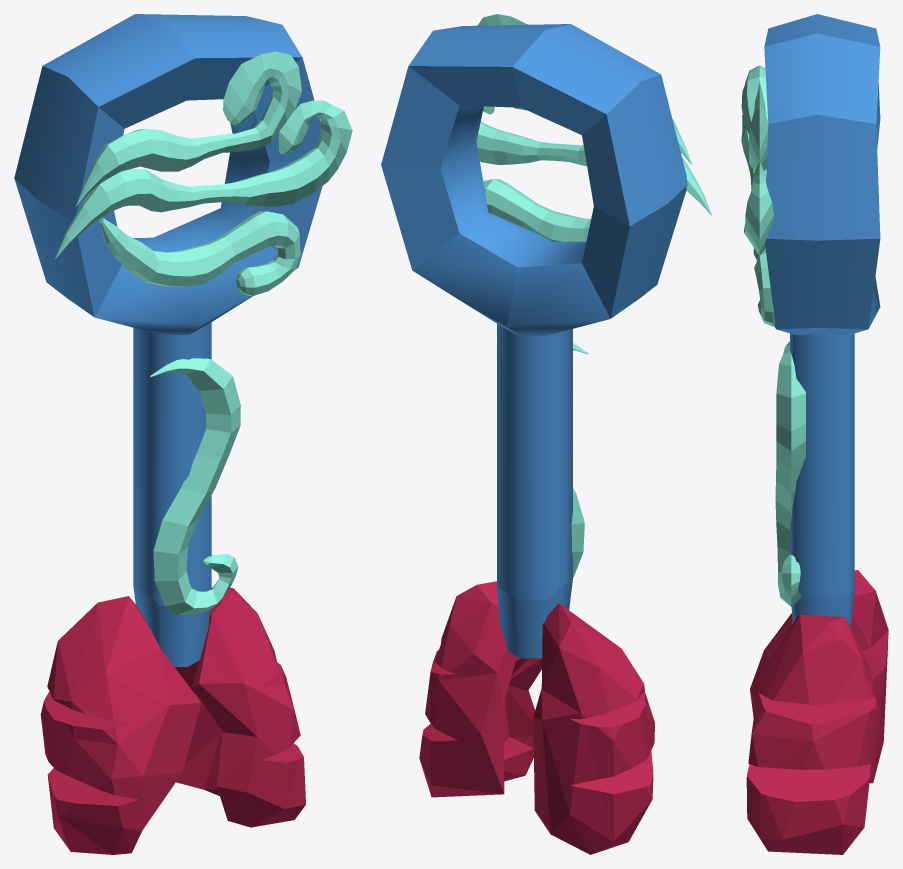
The model's file is LlavePulmon.fbx.
3 renders of one model, left to right at view 1: azimuth 30°, elevation 25°; view 2: azimuth 150°, elevation 25°; view 3: azimuth 270°, elevation 25°, orthographic. The views are drawn at different scales.
Visible parts, largest first — view 1: si.002, si.001, Cylinder; view 2: si.002, si.001, Cylinder; view 3: si.002, si.001, Cylinder.
Part boxes in pixels (x1,y1,x2,y2): si.002: [14, 14, 322, 666]; si.001: [40, 587, 305, 854]; Cylinder: [54, 51, 352, 614]; si.002: [381, 24, 687, 658]; si.001: [419, 581, 654, 854]; Cylinder: [476, 14, 712, 577]; si.002: [764, 14, 880, 627]; si.001: [746, 570, 888, 854]; Cylinder: [741, 65, 805, 606].
Size of the model in its own units: 42.53 by 111 by 18.94.
